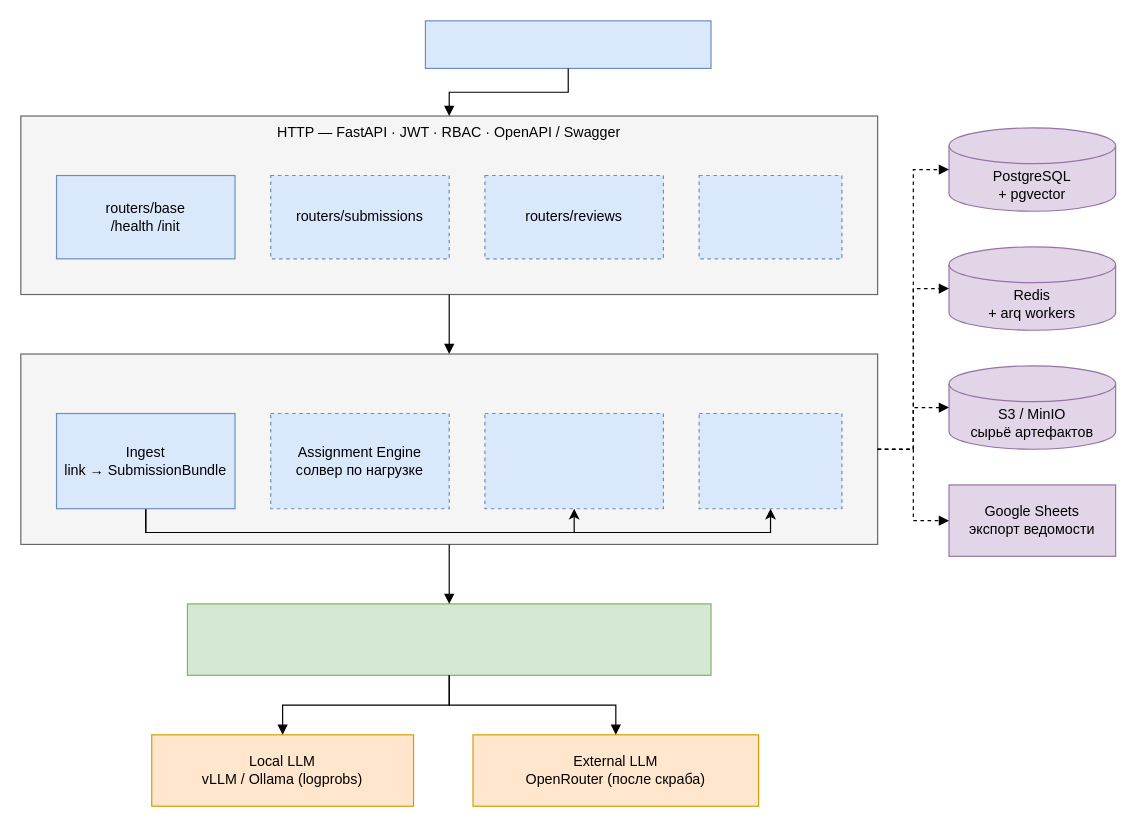
The diagram is 1136 pixels wide and 827 high, and some of its shapes have lost their labels. Here are the shapes that lost their labels. From the top down, the box of each, then its label:
(424, 20, 711, 68): Client — React SPA
(698, 174, 842, 259): routers/… assignments · audit
(20, 353, 878, 544): Services — бизнес-логика (вход: SubmissionBundle)
(484, 412, 663, 509): Review Agent критерии + цитаты
(698, 412, 842, 509): AI-Detection форензика · перплексия
(186, 603, 711, 675): PrivacyGateway единственный выход к LLM · обезличивание ПДн · роутинг
